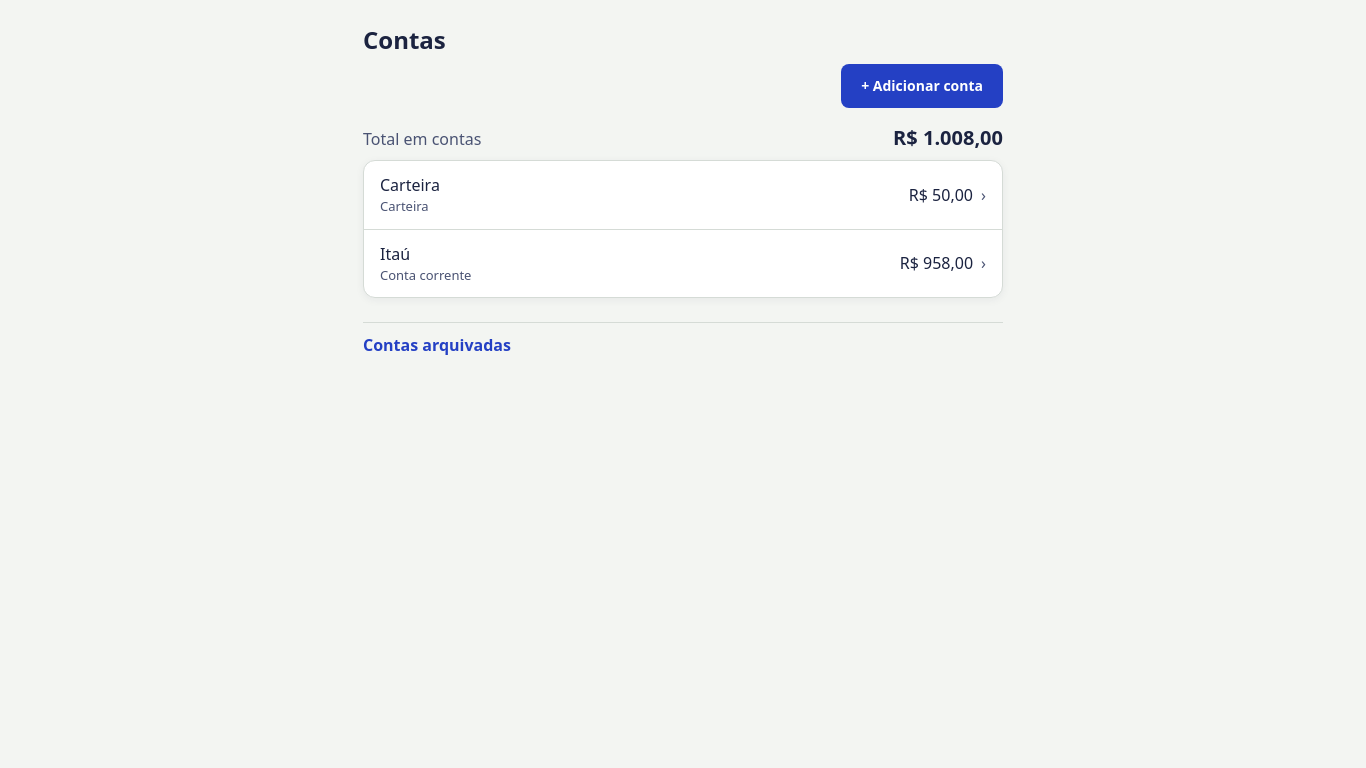
cancel closes the add sheet without creating
The image size is (1366, 768).
Click the button "+ Adicionar conta" at (922, 86), box [841,64,1003,108]
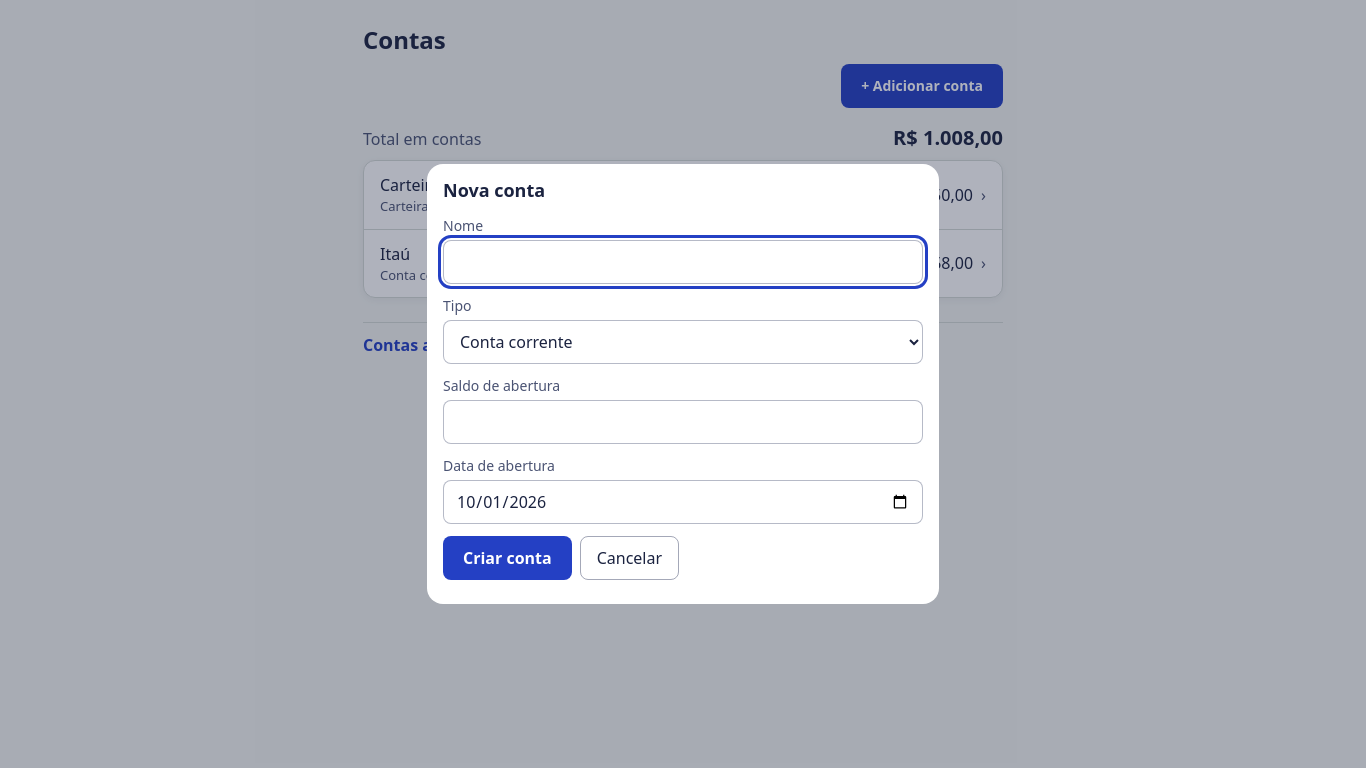
Click the button "Cancelar" at (629, 558), box [580,536,679,580]
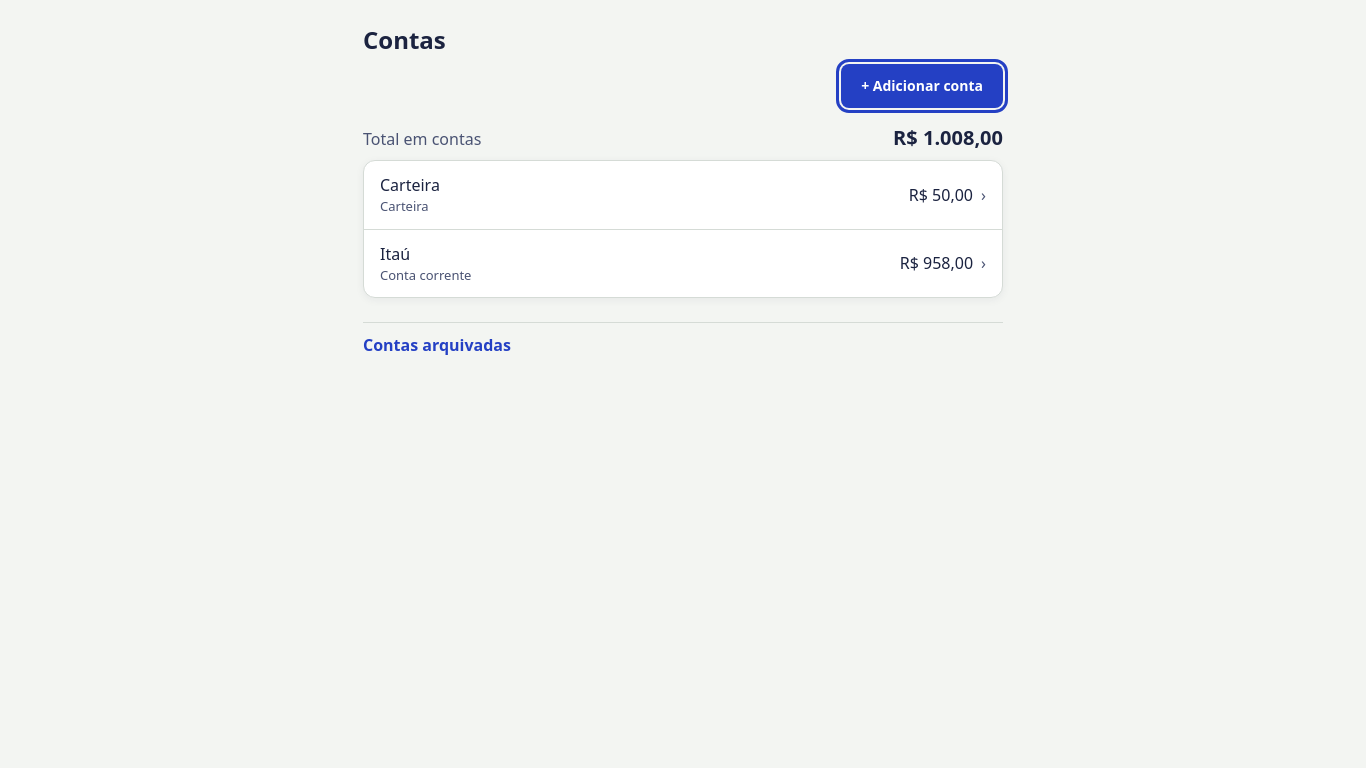
expect the dialog is gone: met
